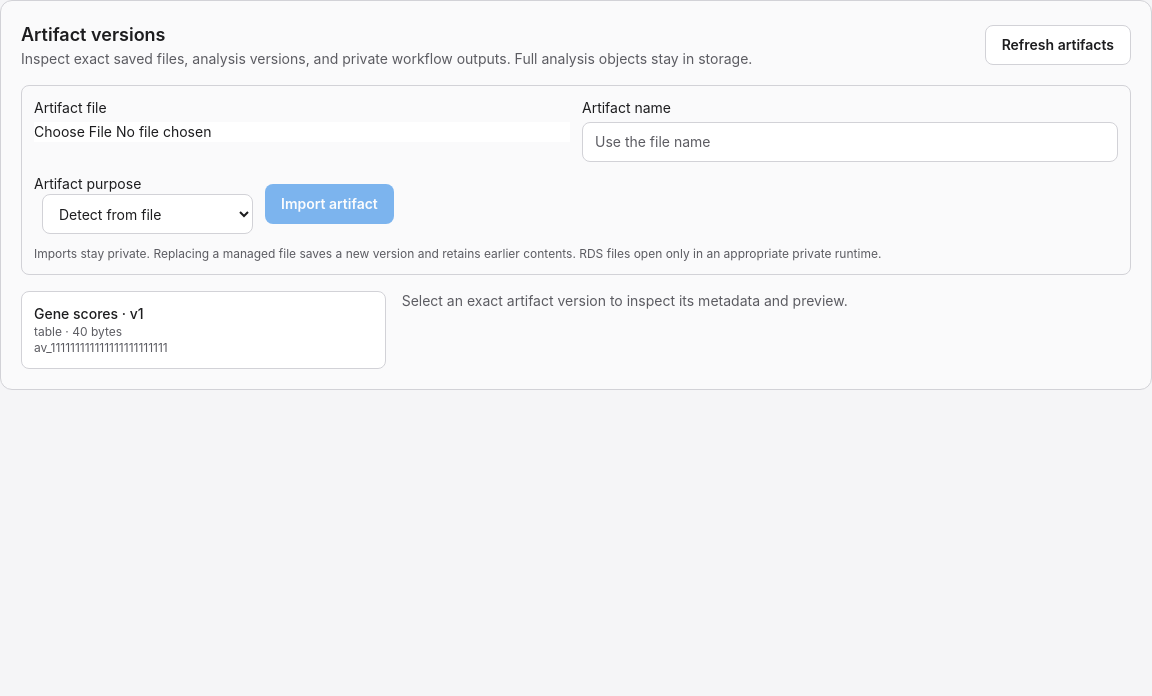
shows retained server provenance and sample descriptions without exposing host paths
Click the button "Gene scores · v1" at (76,314), box [21,291,386,369]
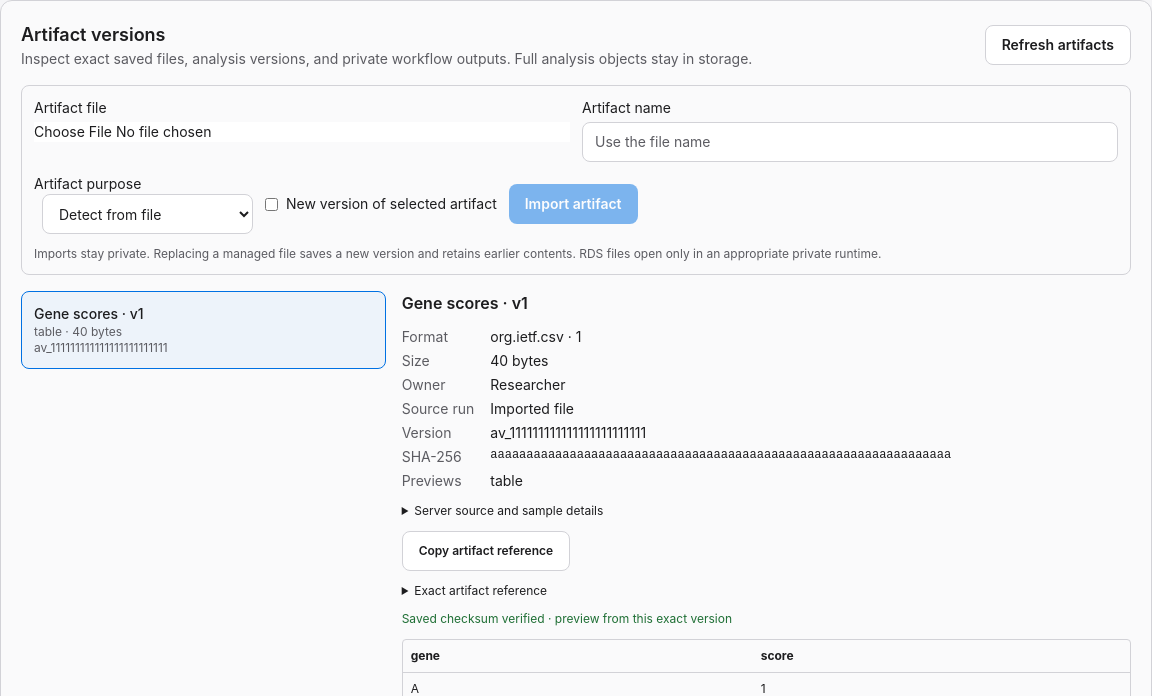
Click the heading "Server source and sample details" at (509,510), box [414,503,603,518]
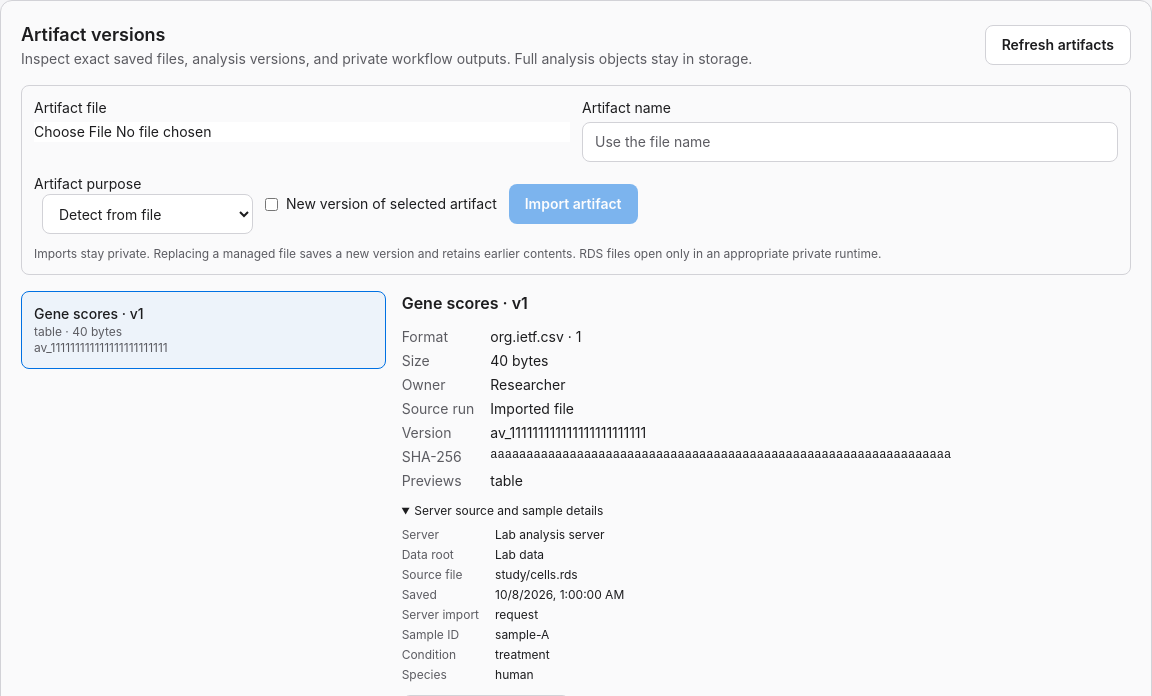
Expected: the text "Lab data" is shown, [495,547,544,562]
Expected: the text "study/cells.rds" is shown, [495,567,578,582]
Expected: the text "Lab analysis server" is shown, [495,527,604,542]
